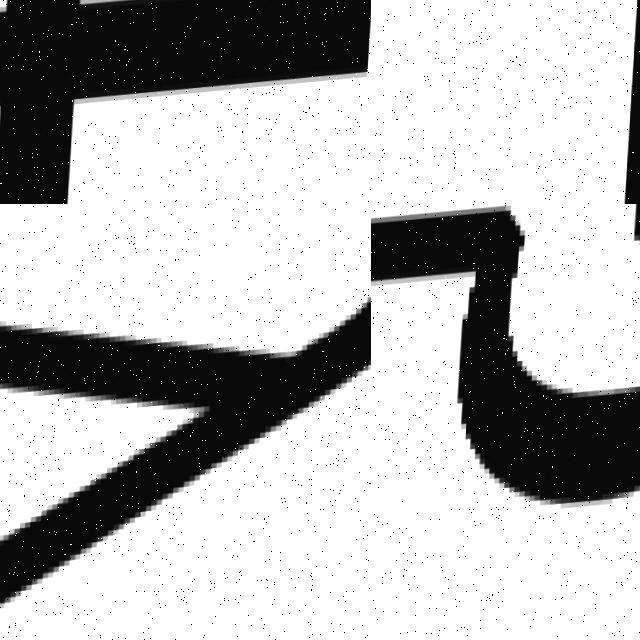5: (371, 204, 640, 550)
F: (0, 0, 371, 204), (371, 0, 592, 195)
Y: (0, 204, 371, 640)
